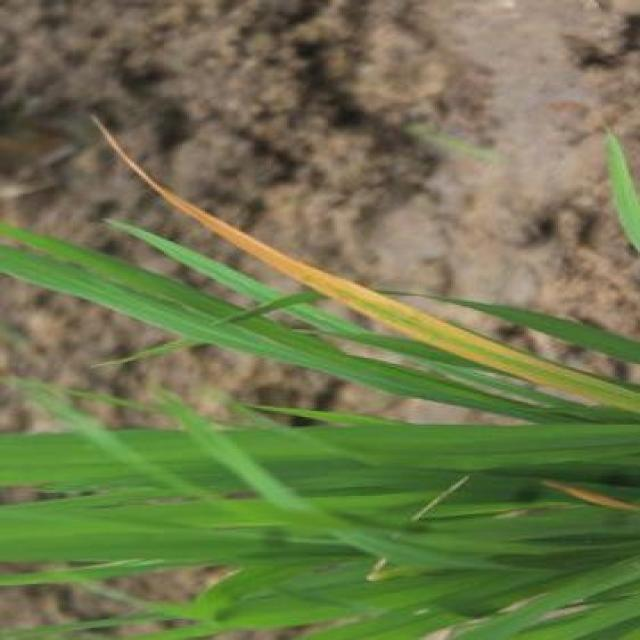Tungro: (87, 111, 590, 371)
